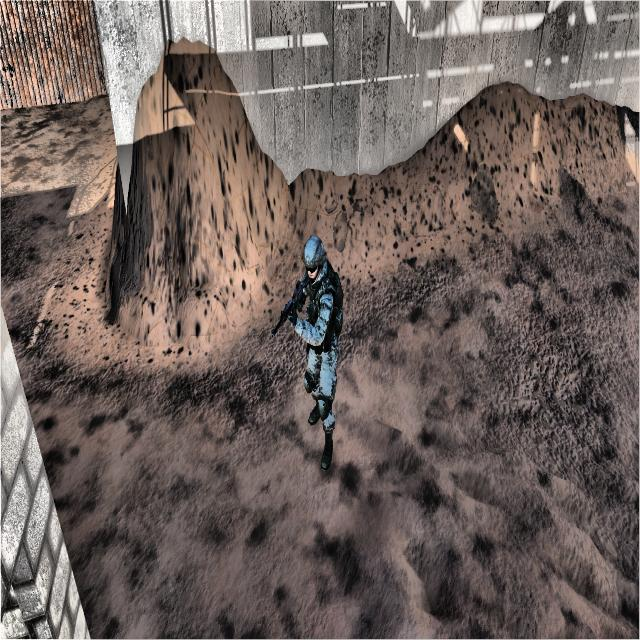bad: (268, 225, 356, 495)
